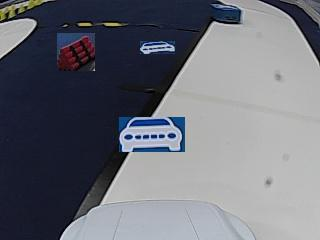prop: (212, 4, 241, 24)
